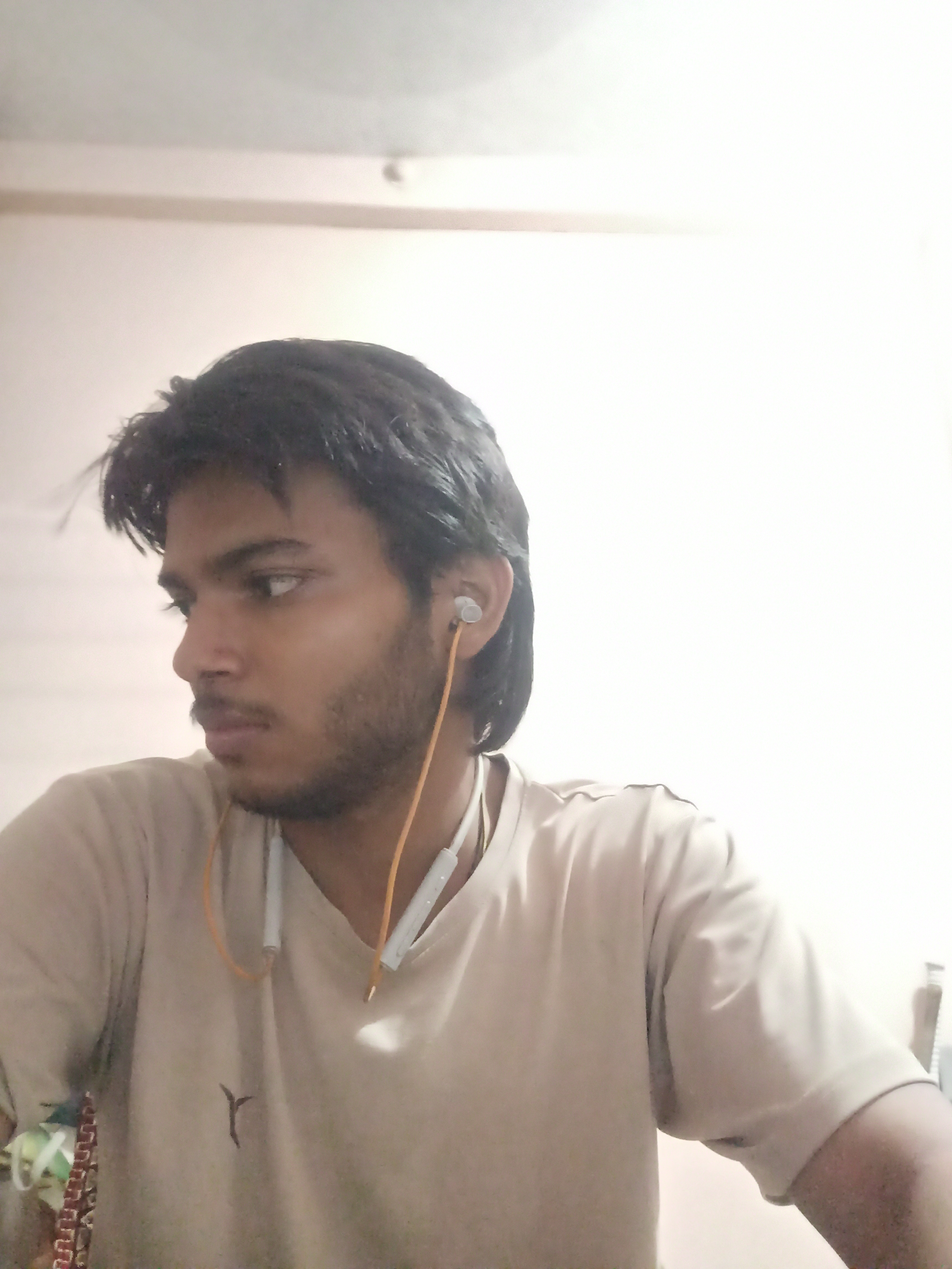distracted: (64, 325, 553, 793)
